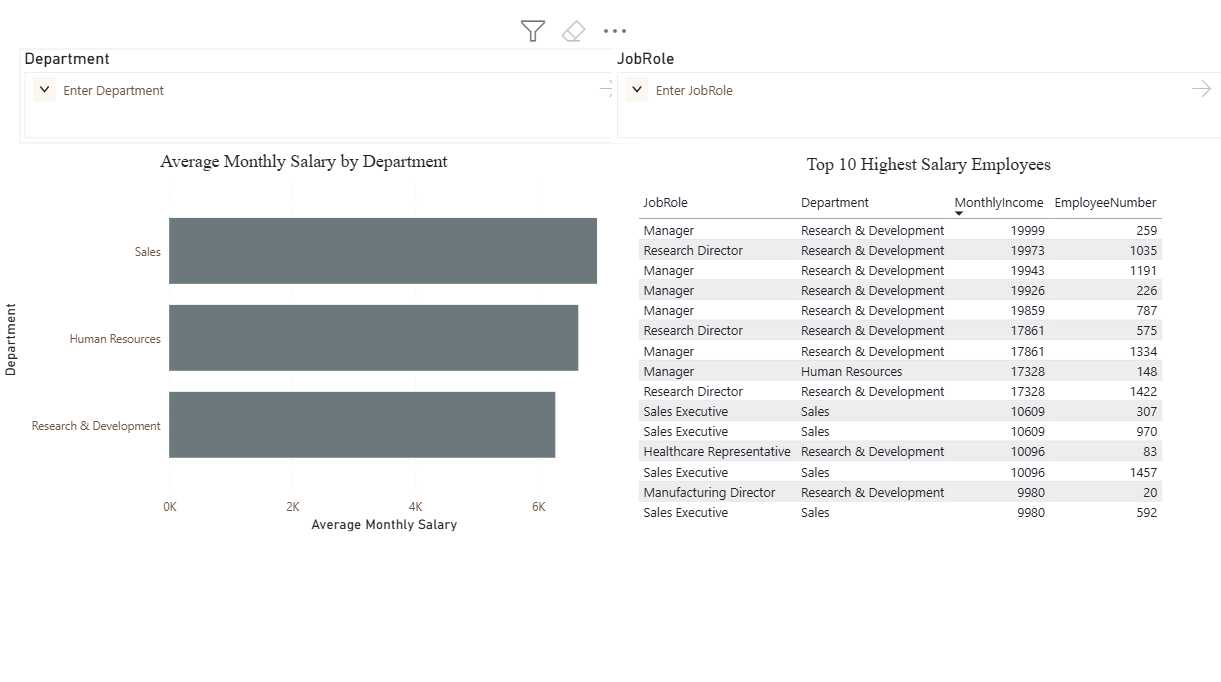

The page's visual inventory and layout, read from the dashboard file:
{"tool":"powerbi","page":{"name":"Compensation Analysis","canvas":[1280,720],"ordinal":2},"visuals":[{"type":"clusteredBarChart","fields":{"Category":["employee.Department"],"Y":["employee.Average Monthly Salary"]},"box":[0,157.1,639.3,401.8],"z":0},{"type":"tableEx","title":"Top 10 Highest Salary Employees","fields":{"Values":["employee.JobRole","employee.Department","employee.MonthlyIncome","employee.EmployeeNumber"]},"box":[662.5,160.7,616.1,416.1],"z":1000},{"type":"textSlicer","fields":{"Values":["employee.Department"]},"box":[23.3,51.7,640,98.3],"z":2000},{"type":"textSlicer","fields":{"Values":["employee.JobRole"]},"box":[640,51.7,640,98.3],"z":3000}]}

Visuals, with their boxes in screenshot pixels (x1, y1, x2, y2), scaled from the page's 1280x720 canvas onto the 1221x682 screenshot:
clusteredBarChart - employee.Department x employee.Average Monthly Salary: [0, 149, 610, 529]
"Top 10 Highest Salary Employees" tableEx: [632, 152, 1220, 546]
textSlicer - employee.Department: [22, 49, 633, 142]
textSlicer - employee.JobRole: [610, 49, 1220, 142]
